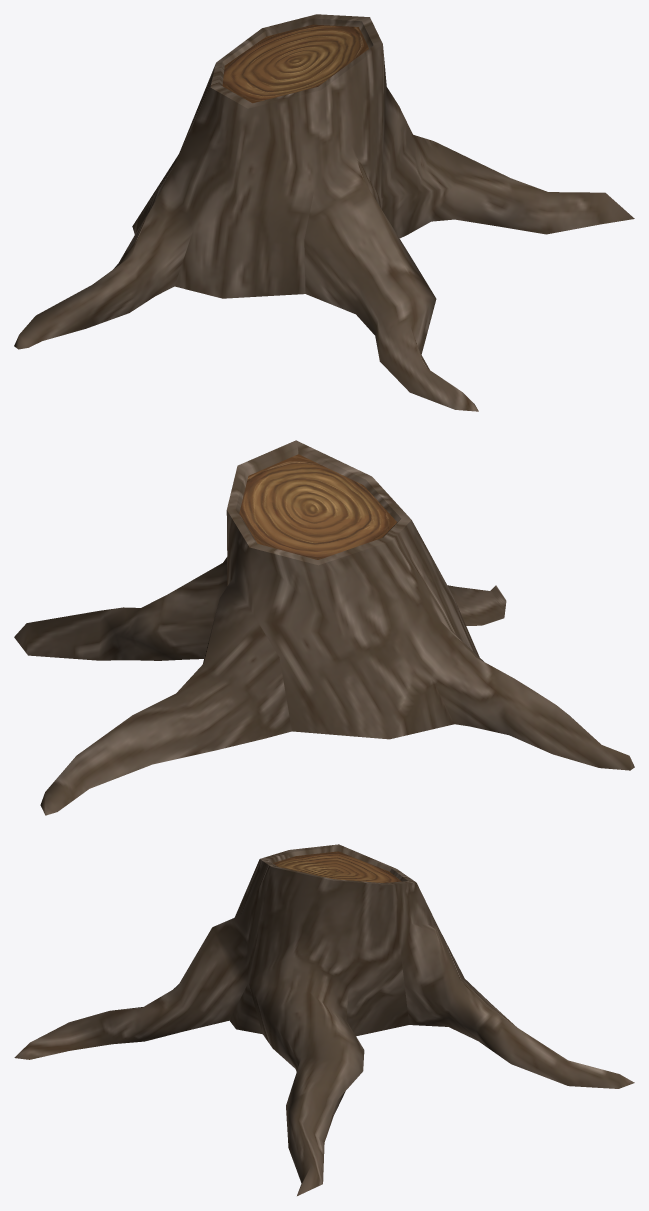
File: muzhuang_02.FBX
The picture shows the model from 3 angles, top to bottom: view 1: azimuth 30°, elevation 25°; view 2: azimuth 150°, elevation 25°; view 3: azimuth 270°, elevation 25°; orthographic projection. The views are drawn at different scales.
Visible parts, largest first — view 1: polySurface161; view 2: polySurface161; view 3: polySurface161.
Boxes of the visible parts, bbox=[...] form: polySurface161: bbox=[14, 14, 634, 411]; polySurface161: bbox=[14, 440, 634, 815]; polySurface161: bbox=[14, 844, 634, 1195].
Size of the model in its own units: 334 by 129 by 336.
